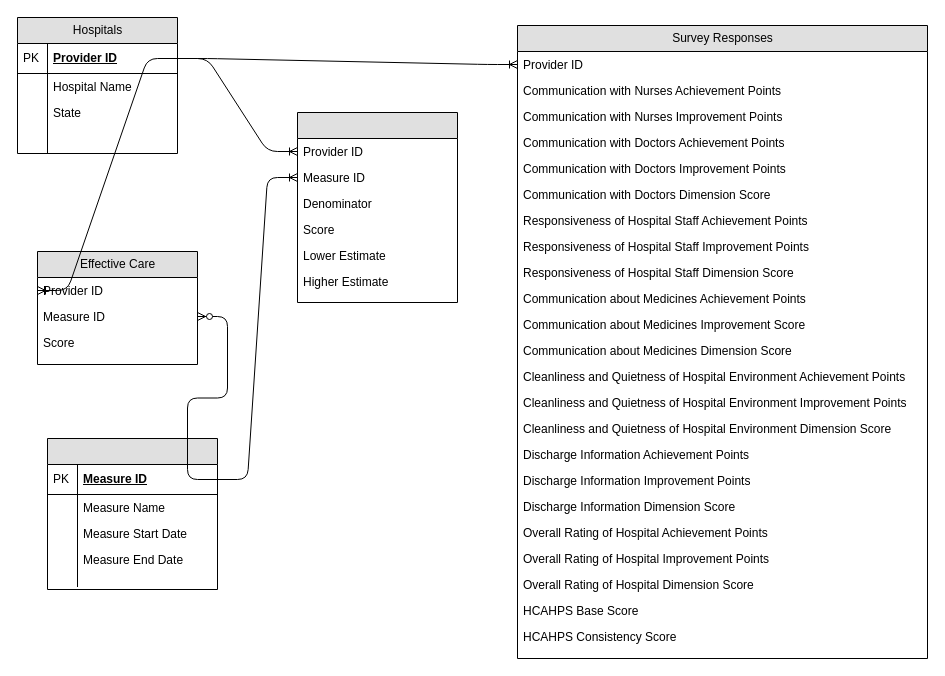
The diagram is 945 pixels wide and 676 high, and some of its shapes have lost their labels. The shapes that lost their labels are listed below. From the top down, each one's box as (x1, y1, x2, y2) in pixels, then its label:
(296, 112, 458, 302): Readmissions
(46, 438, 218, 590): Measure_Dates
